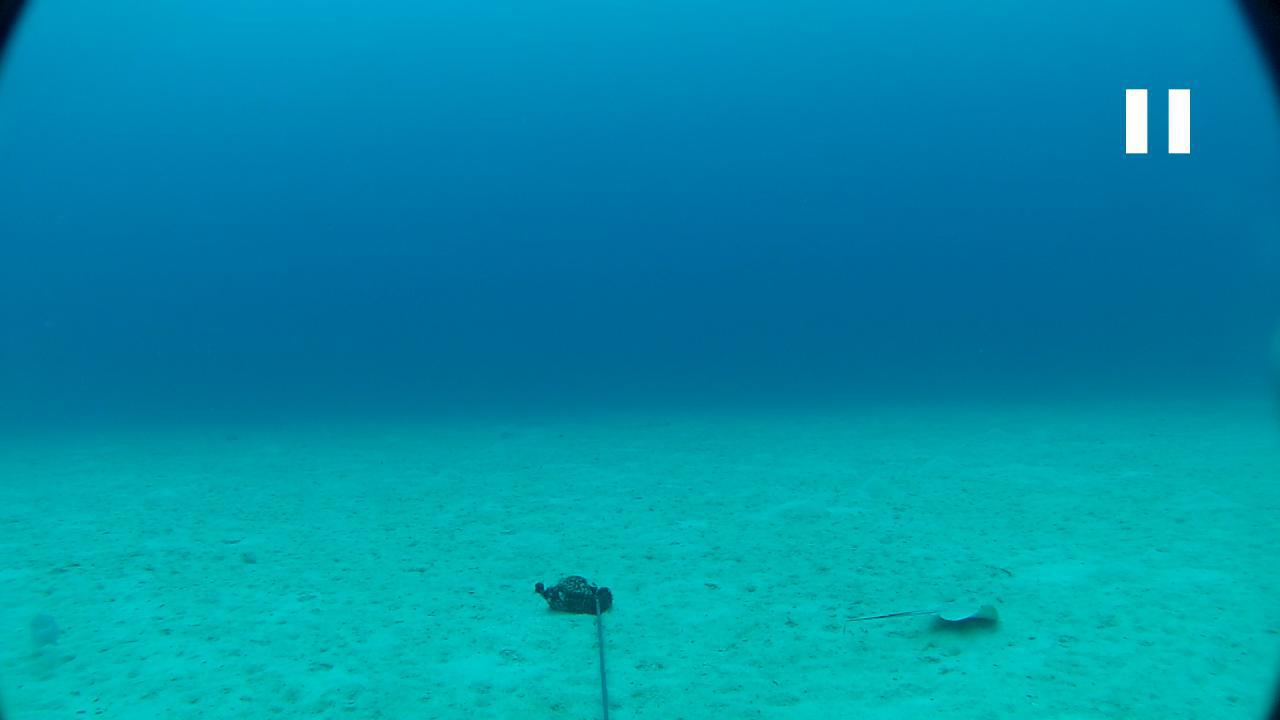dasyatis: (841, 594, 1000, 624)
